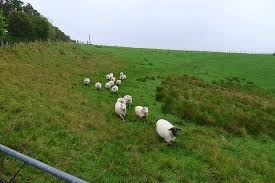sheep: (156, 117, 179, 147), (132, 105, 155, 122), (110, 100, 129, 118), (117, 93, 134, 107), (109, 84, 121, 95), (95, 82, 104, 91), (107, 71, 115, 81), (83, 77, 91, 86), (101, 81, 110, 88), (103, 75, 112, 81), (120, 73, 125, 82), (116, 80, 121, 87)
